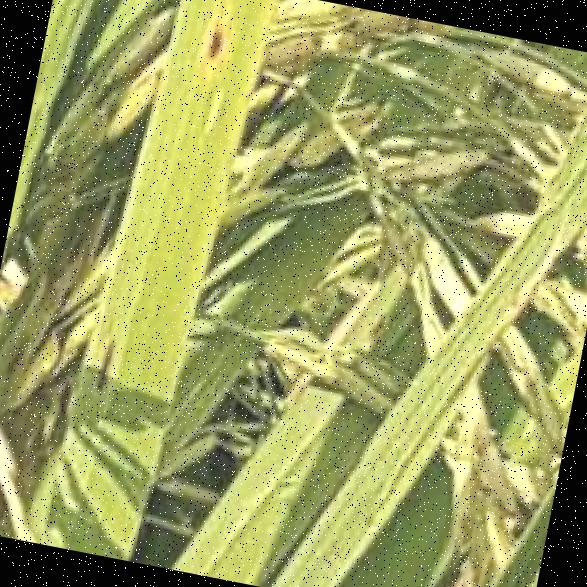Brown_Spot: (186, 8, 231, 81), (87, 320, 127, 400)
